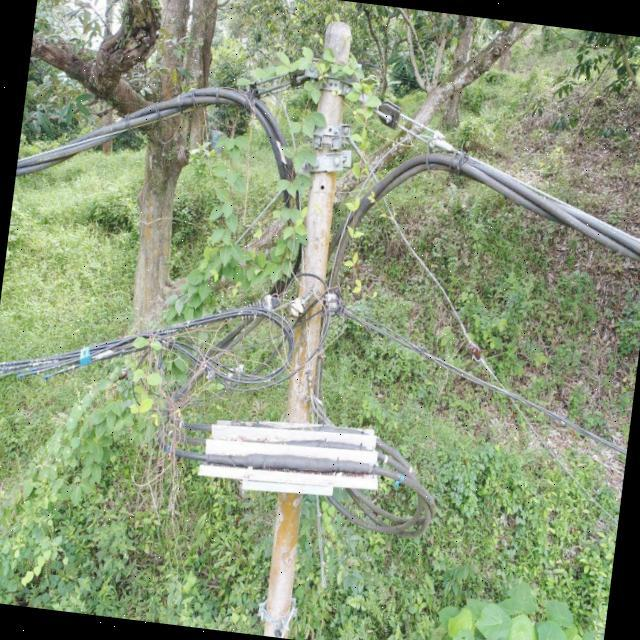critical vegetation: (0, 8, 389, 591)
